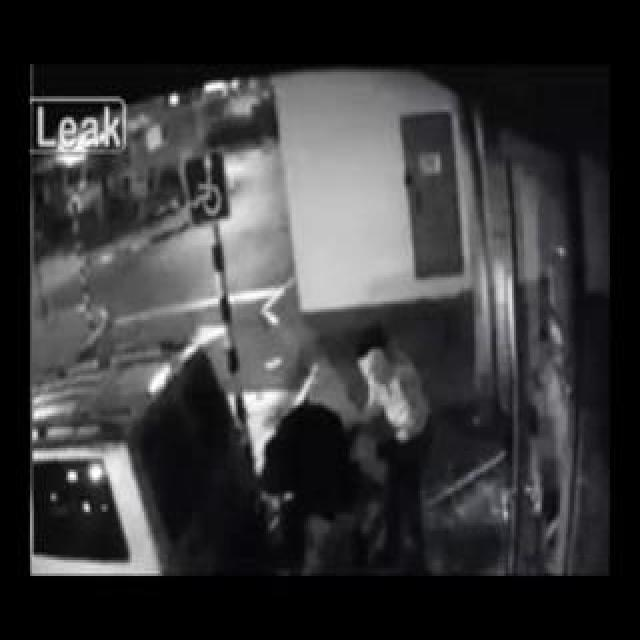thief: (279, 342, 436, 518)
